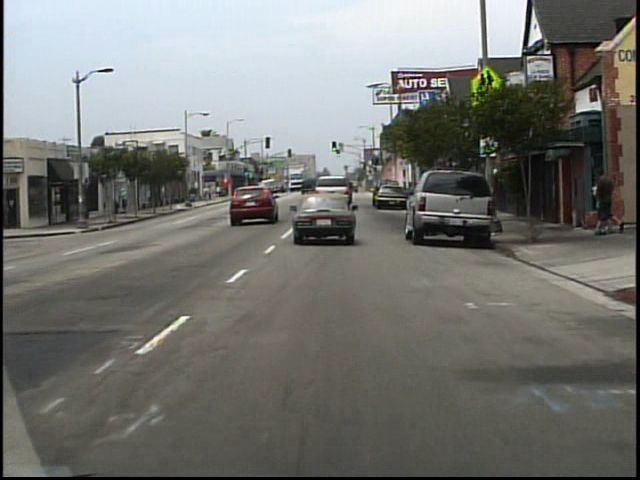person: (595, 165, 622, 235), (590, 171, 613, 233), (121, 186, 133, 214)
